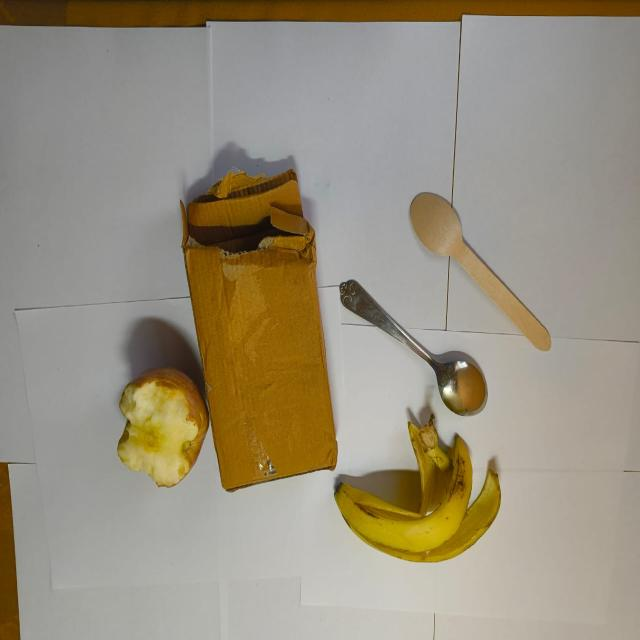Apple-Bio: (116, 363, 208, 490)
Banana-Bio: (334, 414, 502, 567)
CardBoard-Bio: (180, 160, 340, 496)
Steel-NonBio: (338, 277, 488, 418)
Wooden Spoon-Bio: (409, 190, 556, 353)
